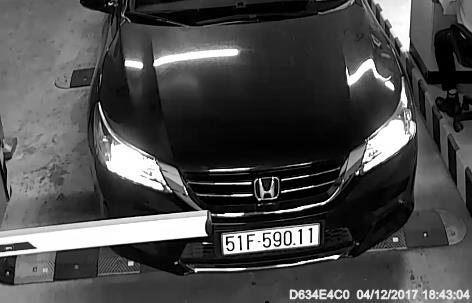License-plate: (217, 221, 328, 262)
